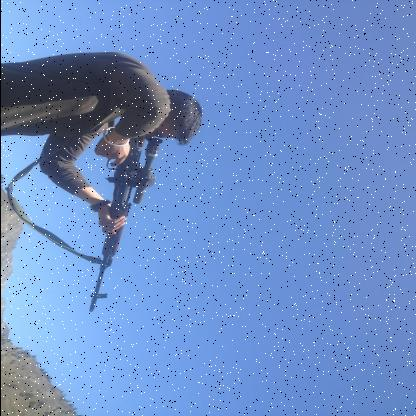rifle: (86, 76, 164, 314)
